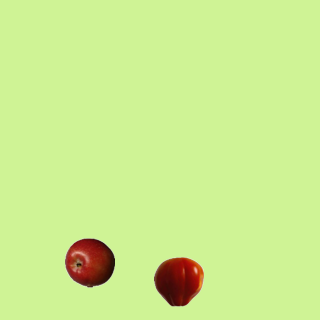Apple Braeburn: (64, 237, 114, 287)
Tomato 1: (153, 256, 203, 306)
